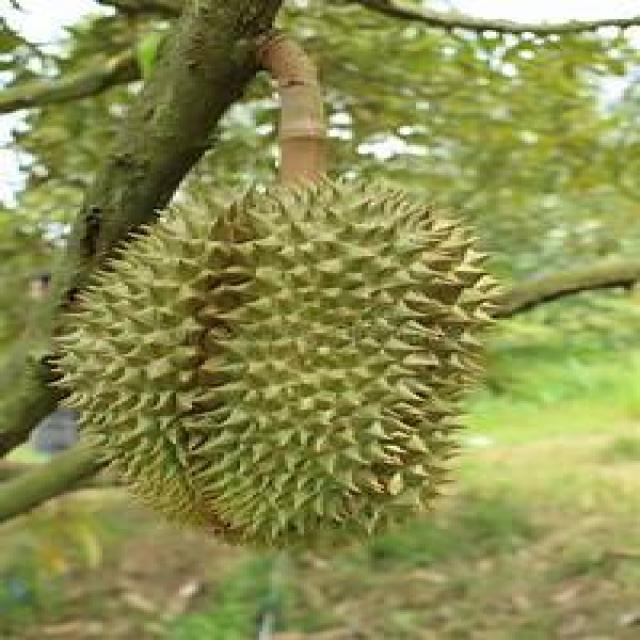immature: (42, 174, 494, 560)
